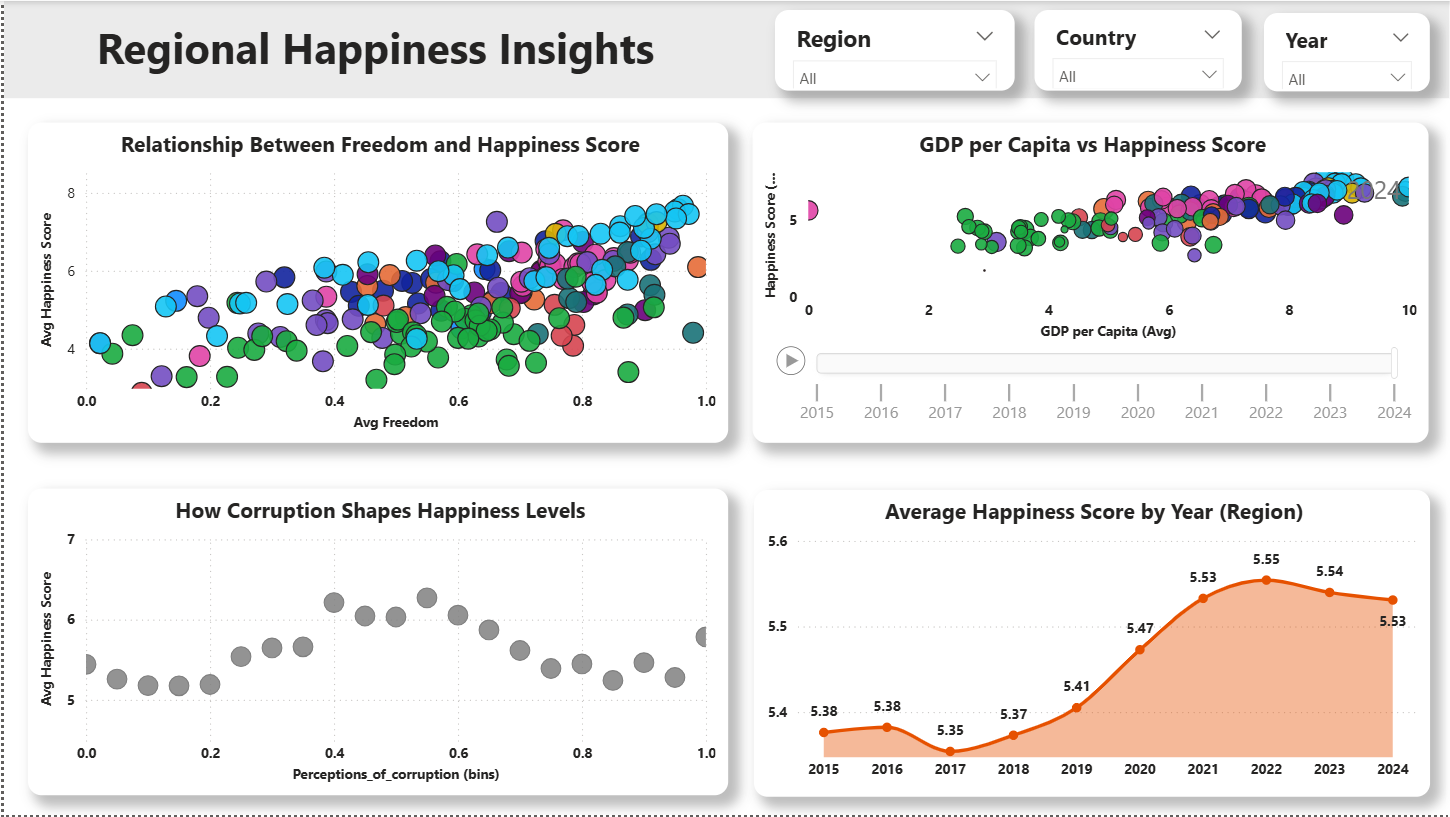

Layout of this report page (visuals, bound fields, positions):
{"tool":"powerbi","page":{"name":"🌎 Regional View","canvas":[1280,720],"ordinal":2},"visuals":[{"type":"shape","box":[0,0,1279.5,86.3],"z":0},{"type":"slicer","fields":{"Values":["Fact_Happiness.Regional_indicator"]},"box":[681.4,7.6,212,71.2],"z":1000},{"type":"lineChart","title":"Average Happiness Score by Year (Region)","fields":{"Category":["Fact_Happiness.Year"],"Y":["Measure_Table.Avg Happiness Score"]},"box":[663.2,433.1,598.1,271],"z":2000},{"type":"scatterChart","title":"GDP per Capita vs Happiness Score","fields":{"X":["Measure_Table.Avg GDP per Capita"],"Y":["Measure_Table.Avg Happiness Score"],"Series":["Fact_Happiness.Regional_indicator"],"Category":["Fact_Happiness.Country"],"Size":["Measure_Table.Avg Social Support"],"Play":["Fact_Happiness.Year"]},"box":[661.7,107.5,598.1,283.2],"z":3000},{"type":"scatterChart","title":"Relationship Between Freedom and Happiness Score","fields":{"Category":["Fact_Happiness.Country"],"X":["Measure_Table.Avg Freedom"],"Y":["Measure_Table.Avg Happiness Score"],"Series":["Fact_Happiness.Regional_indicator"]},"box":[21.2,107.5,619.3,283.2],"z":4000},{"type":"scatterChart","title":"How Corruption Shapes Happiness Levels","fields":{"X":["Fact_Happiness.Perceptions_of_corruption (bins)"],"Y":["Measure_Table.Avg Happiness Score"]},"box":[21.2,431.5,619.3,271],"z":5000},{"type":"slicer","fields":{"Values":["Fact_Happiness.Country"]},"box":[911.6,7.6,183.2,71.2],"z":6000},{"type":"slicer","fields":{"Values":["Fact_Egypt.Year"]},"box":[1114.5,10.6,146.9,69.7],"z":7000},{"type":"textbox","box":[69.7,10.6,519.4,68.1],"z":8000}]}

Visuals, with their boxes in screenshot pixels (x1, y1, x2, y2), scaled from the page's 1280x720 canvas onto the 1450x817 screenshot:
shape: box=[0, 0, 1449, 98]
slicer - Fact_Happiness.Regional_indicator: box=[772, 9, 1012, 89]
"Average Happiness Score by Year (Region)" lineChart: box=[751, 491, 1429, 799]
"GDP per Capita vs Happiness Score" scatterChart: box=[750, 122, 1427, 443]
"Relationship Between Freedom and Happiness Score" scatterChart: box=[24, 122, 726, 443]
"How Corruption Shapes Happiness Levels" scatterChart: box=[24, 490, 726, 797]
slicer - Fact_Happiness.Country: box=[1033, 9, 1240, 89]
slicer - Fact_Egypt.Year: box=[1263, 12, 1429, 91]
textbox: box=[79, 12, 667, 89]
